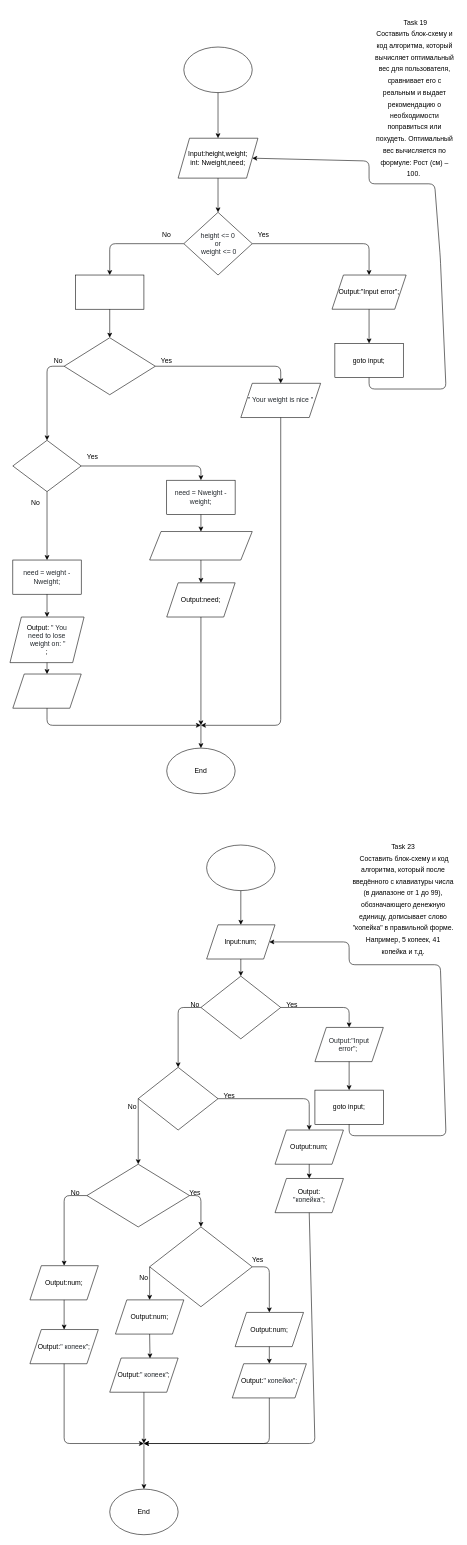
The diagram is 467 pixels wide and 1545 high, and some of its shapes have lost their labels. Each missing label, with the box of its shape:
num != 11 and num % 10 == 1: (138, 1067, 218, 1130)
num != 12 and num != 13 and num != 14: (86, 1164, 190, 1227)
num % 10 == 2 or num % 10 == 3 or num % 10 == 4: (149, 1226, 252, 1307)
num < 1 or num >= 100: (200, 976, 281, 1039)
Nweight = height - 100;: (75, 274, 144, 309)
Output: " You need to gain : ";: (149, 531, 252, 560)
Output:nned;: (12, 673, 81, 708)
Srart: (183, 46, 252, 93)
Start: (206, 844, 275, 891)
weight < Nweight: (12, 440, 81, 492)
weight == Nweight: (64, 337, 155, 395)
